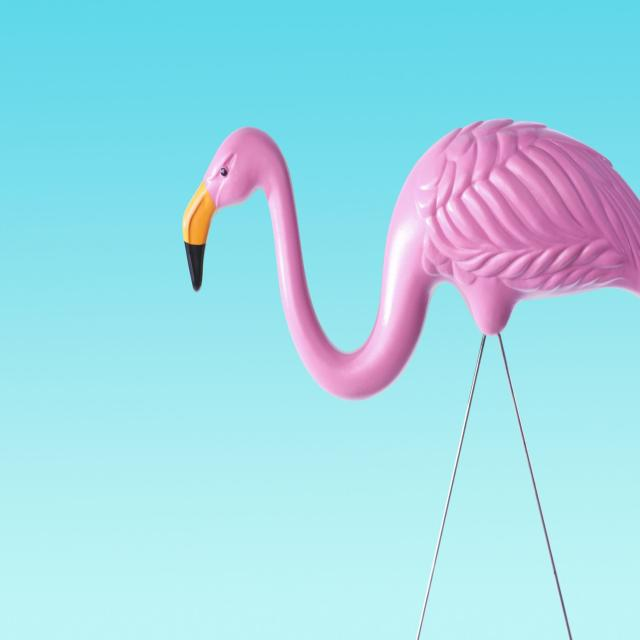Flamingo: (180, 124, 640, 630)
